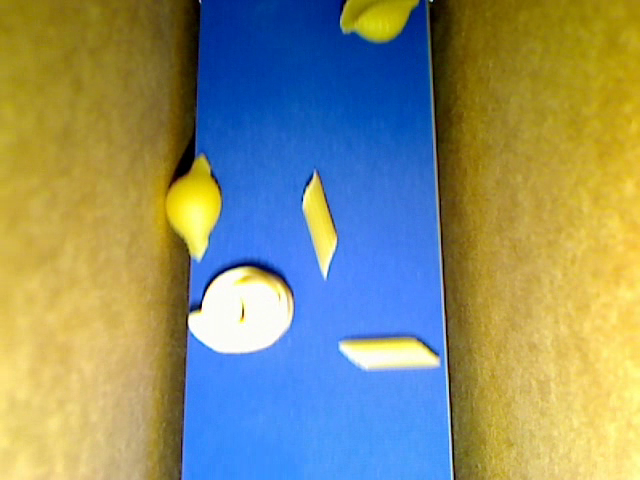penne: (302, 169, 337, 282), (337, 336, 441, 370)
shell: (166, 154, 221, 260), (339, 1, 419, 45)
tortellini: (189, 265, 296, 352)
